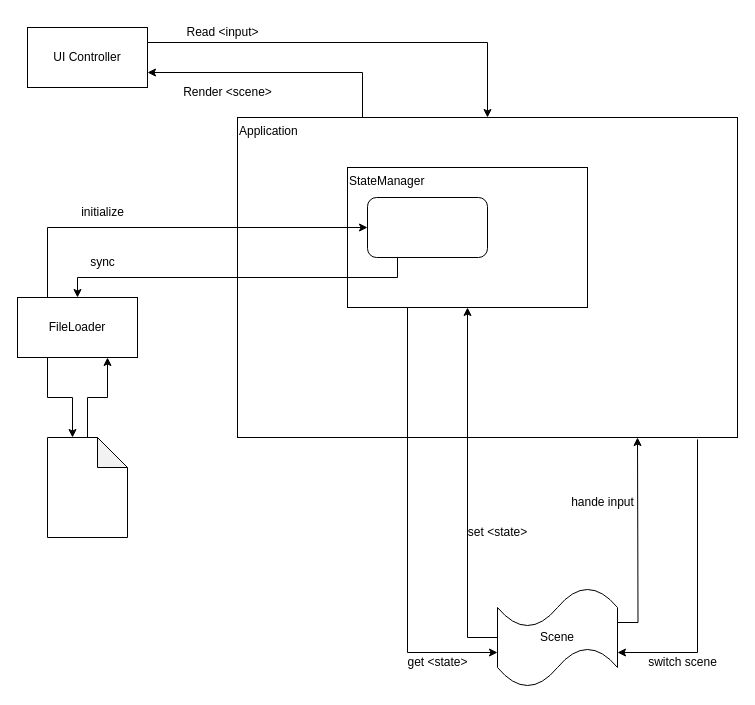
The diagram is 755 pixels wide and 705 high, and some of its shapes have lost their labels. The shapes that lost their labels are listed below. From the top down, each one's centre as x and y in pixels, then its label:
pixel 427 227: State (users, tests, results)
pixel 87 487: File DataSource
